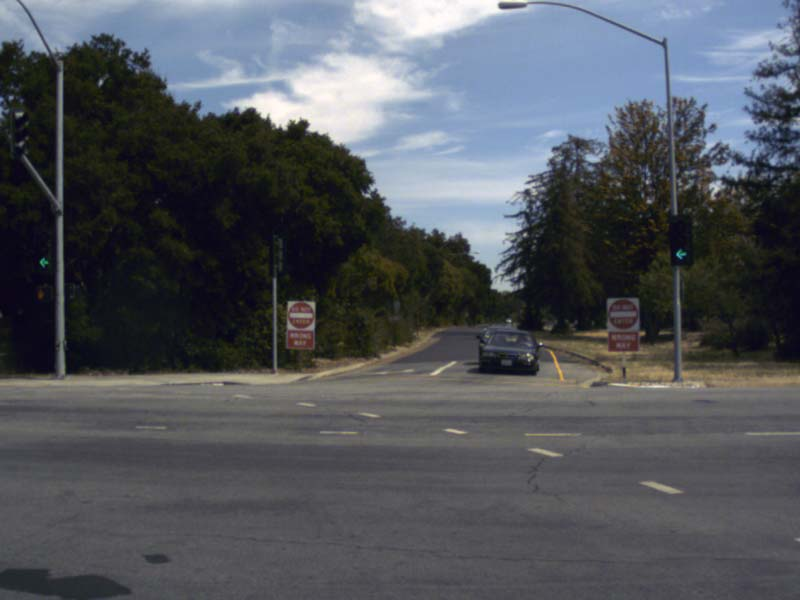Green: (668, 215, 693, 265), (34, 228, 53, 274)
